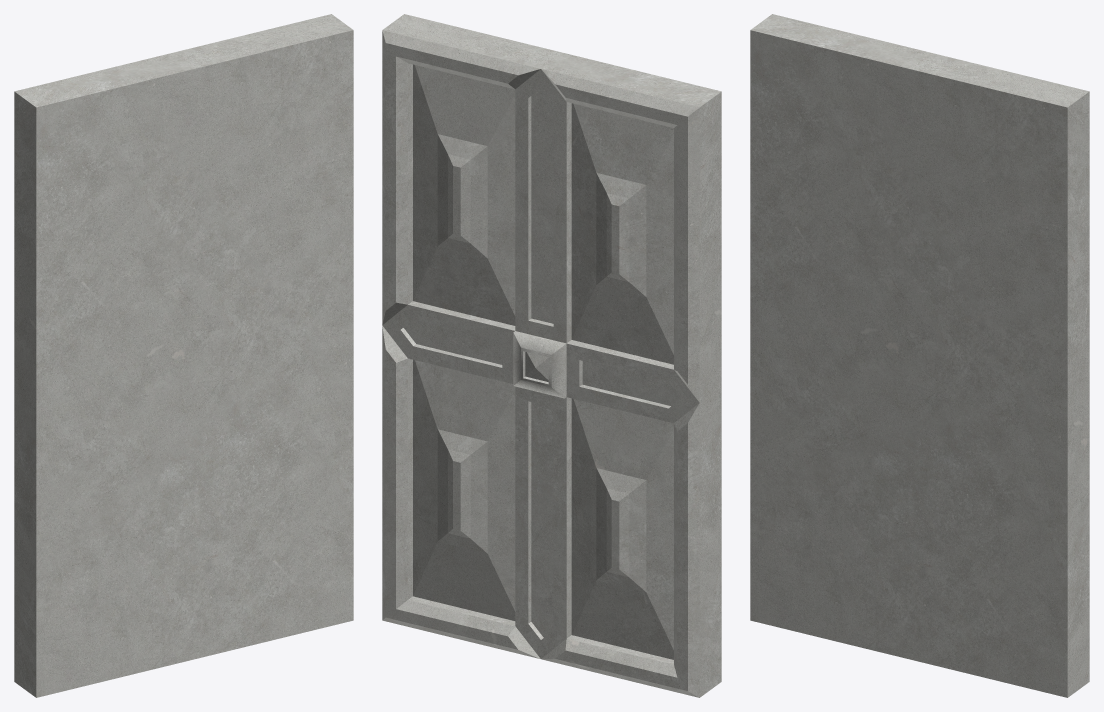
The model's file is PuertaPresidencial.fbx.
The picture shows the model from 3 angles, left to right: view 1: azimuth 30°, elevation 25°; view 2: azimuth 150°, elevation 25°; view 3: azimuth 330°, elevation 25°; orthographic projection.
Parts seen in each view (by area): view 1: Box159; view 2: Box159; view 3: Box159.
Boxes of the visible parts, x1,y1,x2,y2 form: Box159: (14,14,353,697); Box159: (382,14,721,697); Box159: (750,14,1089,697).
Bounding box in the file's own units: 70.87 × 126 × 10.62.
